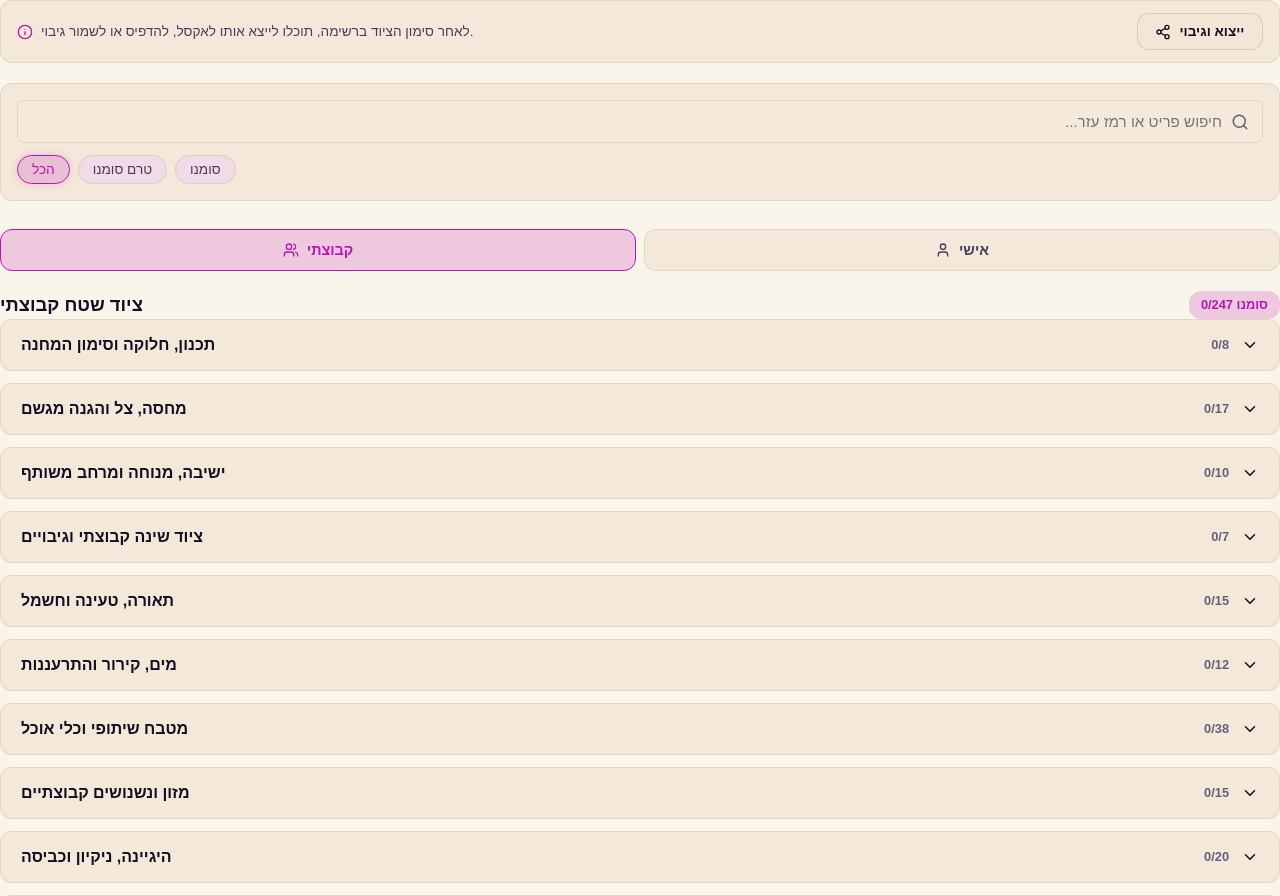
EquipmentChecklist › filters items based on status chips (checked/unchecked/all)
The width and height of the screenshot is (1280, 896).
Expand shelter topic
Click the text "מחסה, צל והגנה מגשם": (104, 409) x1=21 y1=400 x2=187 y2=418
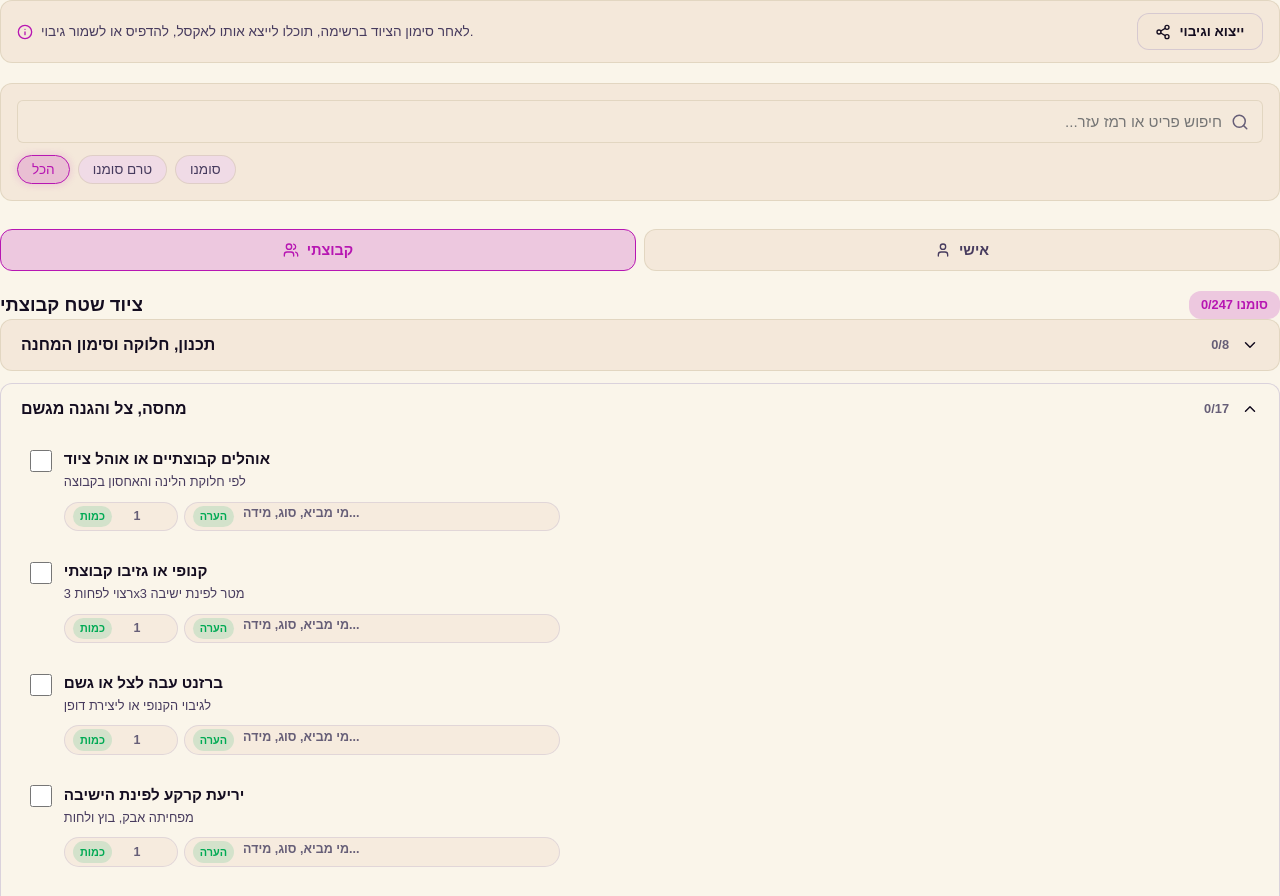
Check 'אוהלים קבוצתיים או אוהל ציוד'
Click the element with test id "equipment-item-shared-tents": (167, 459) x1=30 y1=450 x2=560 y2=531
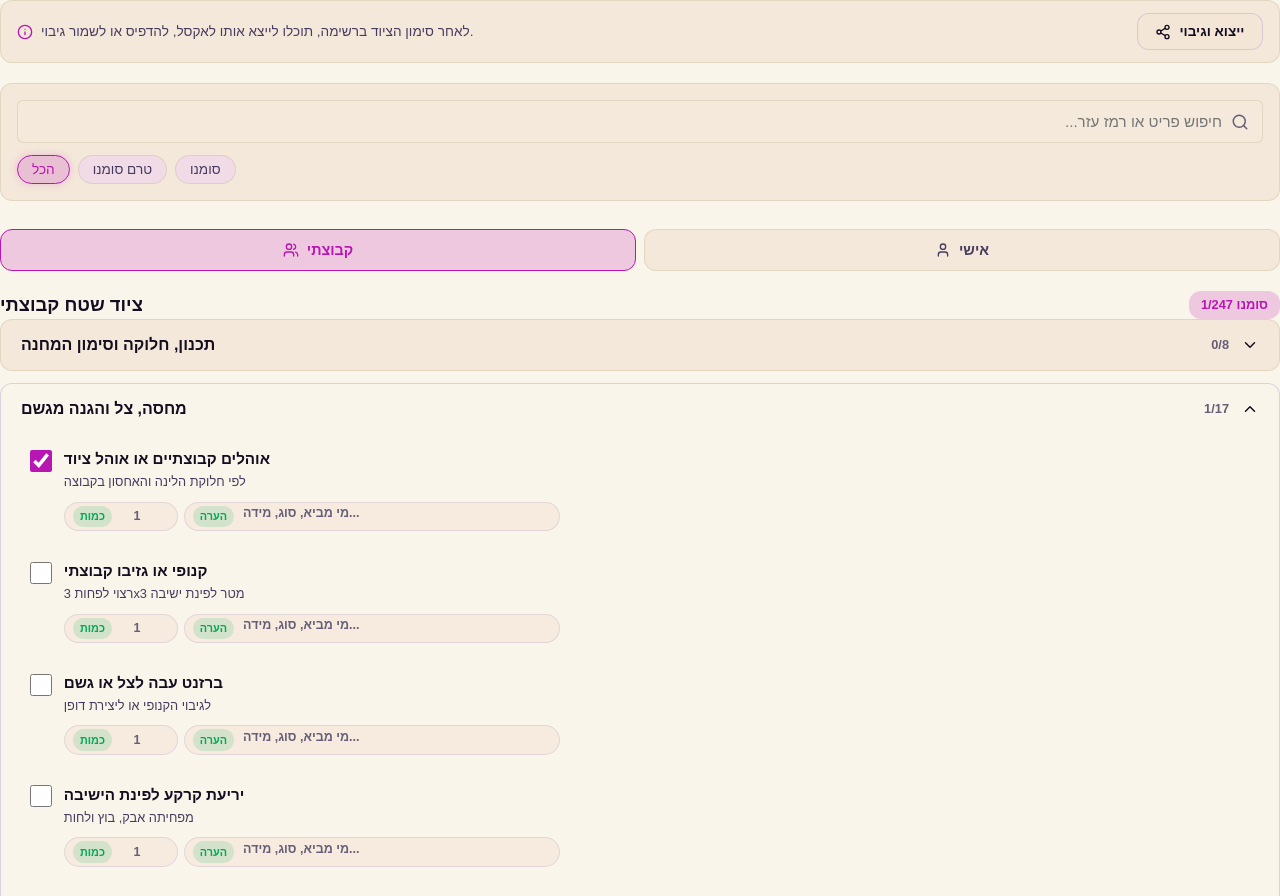
Filter by 'checked' (סומנו)
Click the button "סומנו": (205, 170) x1=175 y1=155 x2=236 y2=184
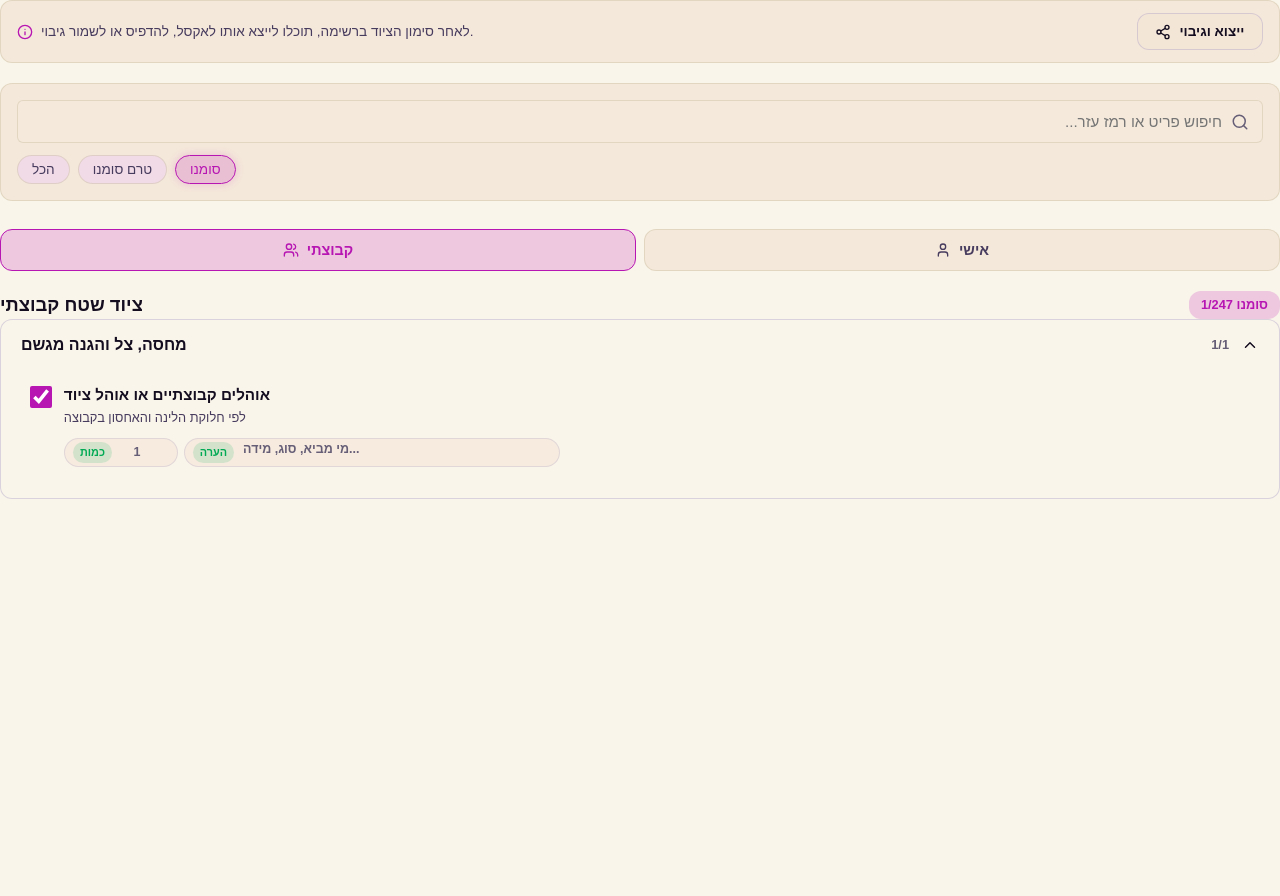
Now the text "אוהלים קבוצתיים או אוהל ציוד" is shown, box x1=64 y1=386 x2=270 y2=403
Now the text "קנופי או גזיבו קבוצתי" is gone
Filter by 'unchecked' (טרם סומנו)
Click the button "טרם סומנו": (122, 170) x1=78 y1=155 x2=167 y2=184
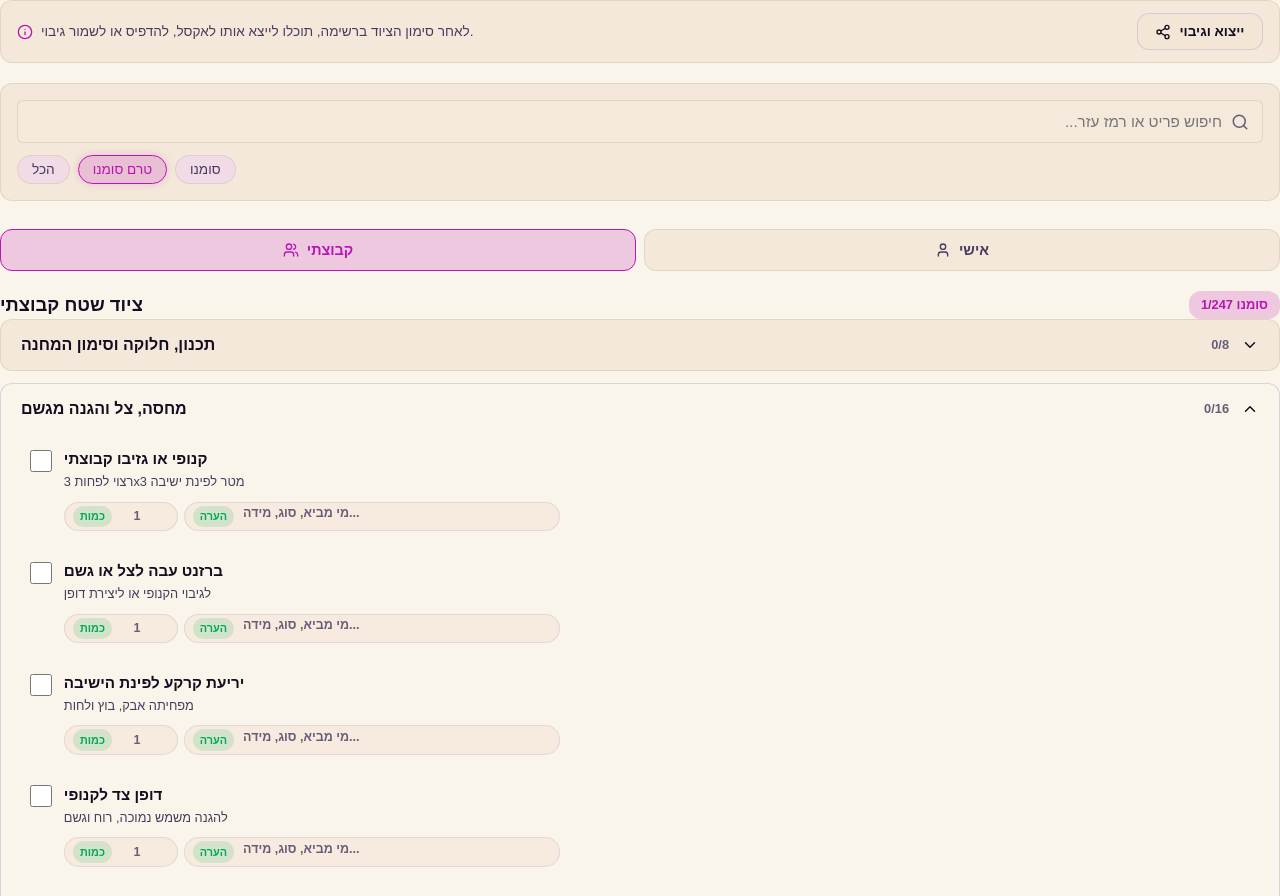
Now the text "אוהלים קבוצתיים או אוהל ציוד" is gone
Now the text "קנופי או גזיבו קבוצתי" is shown, box x1=64 y1=450 x2=207 y2=467
Filter by 'all' (הכל)
Click the button "הכל": (43, 170) x1=17 y1=155 x2=70 y2=184
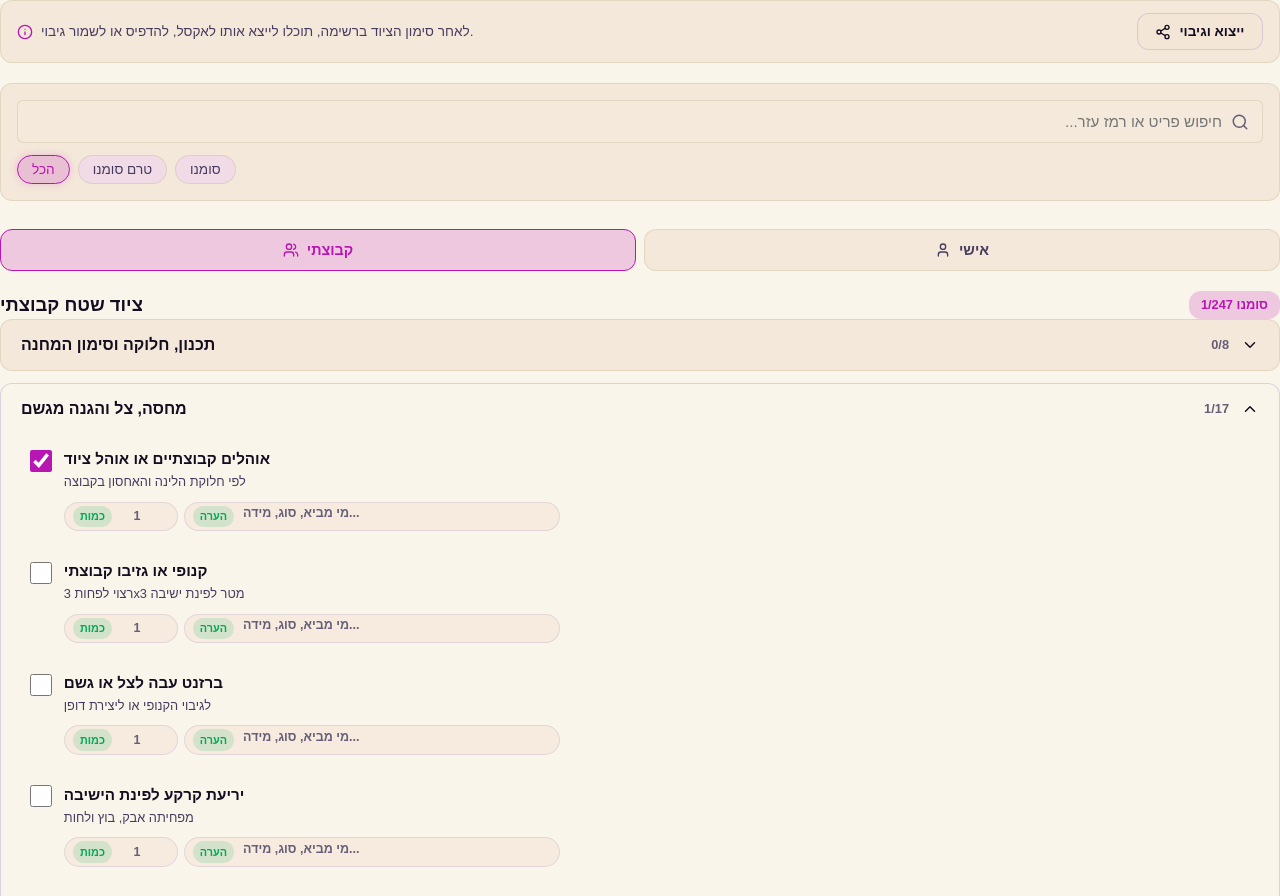
Now the text "קנופי או גזיבו קבוצתי" is shown, box x1=64 y1=562 x2=207 y2=579
Now the text "אוהלים קבוצתיים או אוהל ציוד" is shown, box x1=64 y1=450 x2=270 y2=467
